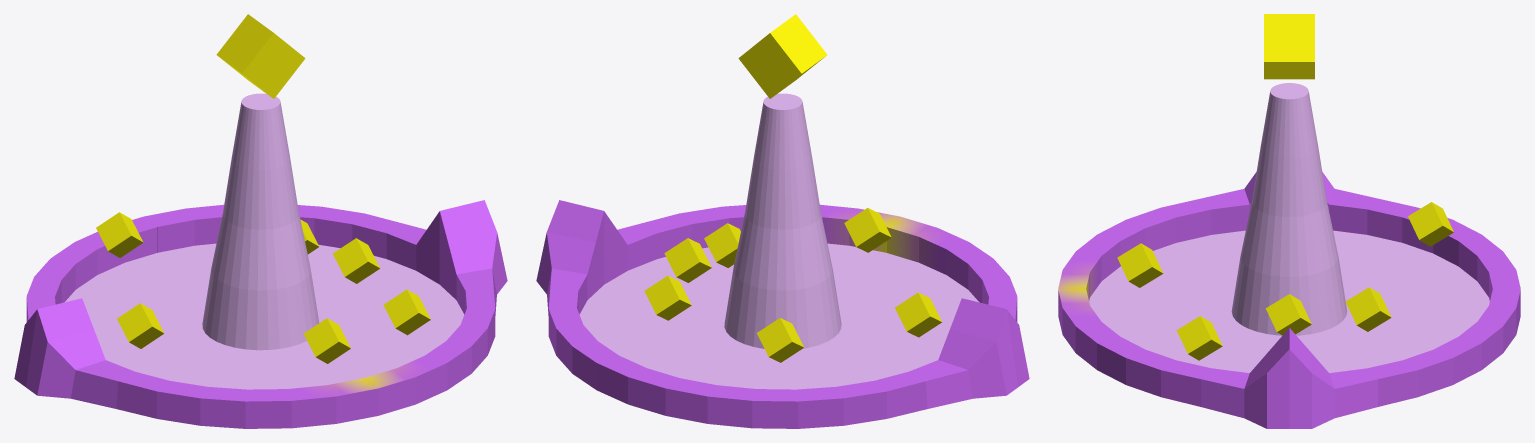
The model's file is torre_gravitacional com cor.fbx.
3 views of the same model, side by side, from view 1: azimuth 30°, elevation 25°; view 2: azimuth 150°, elevation 25°; view 3: azimuth 270°, elevation 25° (orthographic).
Visible parts, largest first — view 1: Base, chao, Cilindro do meio, cubos menores, Cubo maior; view 2: Base, chao, Cilindro do meio, cubos menores, Cubo maior; view 3: Base, chao, Cilindro do meio, cubos menores, Cubo maior.
Part boxes in pixels (<box>): Base: <box>14,200,507,428</box>; chao: <box>64,243,464,389</box>; Cilindro do meio: <box>202,93,319,350</box>; cubos menores: <box>96,212,430,363</box>; Cubo maior: <box>216,14,305,98</box>; Base: <box>536,200,1029,428</box>; chao: <box>579,243,979,389</box>; Cilindro do meio: <box>724,93,841,348</box>; cubos menores: <box>644,208,941,362</box>; Cubo maior: <box>738,14,827,98</box>; Base: <box>1058,172,1520,428</box>; chao: <box>1089,230,1489,372</box>; Cilindro do meio: <box>1231,83,1347,335</box>; cubos menores: <box>1117,202,1453,360</box>; Cubo maior: <box>1264,14,1314,79</box>.
Bounding box in the file's own units: 580 × 361 × 501.
5 materials, 5 textured.
